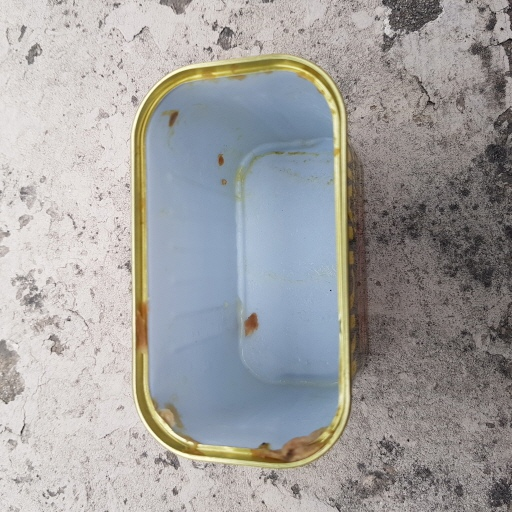Metal_2: (127, 54, 370, 471)
